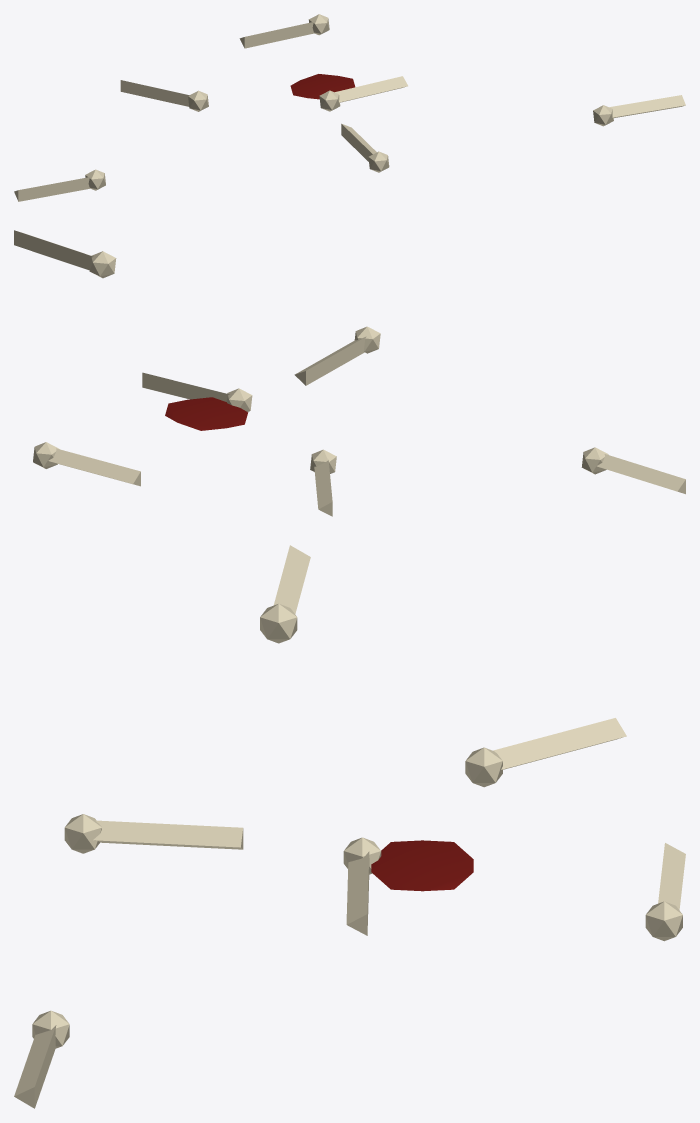
File: bone_bits.glb
3 renders of one model, top to bottom at view 1: azimuth 30°, elevation 25°; view 2: azimuth 150°, elevation 25°; view 3: azimuth 270°, elevation 25°, orthographic. The views are drawn at different scales.
Visible parts, largest first — view 1: bone_bits; view 2: bone_bits; view 3: bone_bits.
Boxes of the visible parts, x1,y1,x2,y2 form: bone_bits: [14, 14, 685, 201]; bone_bits: [14, 230, 685, 516]; bone_bits: [14, 545, 685, 1108].
Bounding box in the file's own units: 1.28 × 0.044 × 0.6715.
